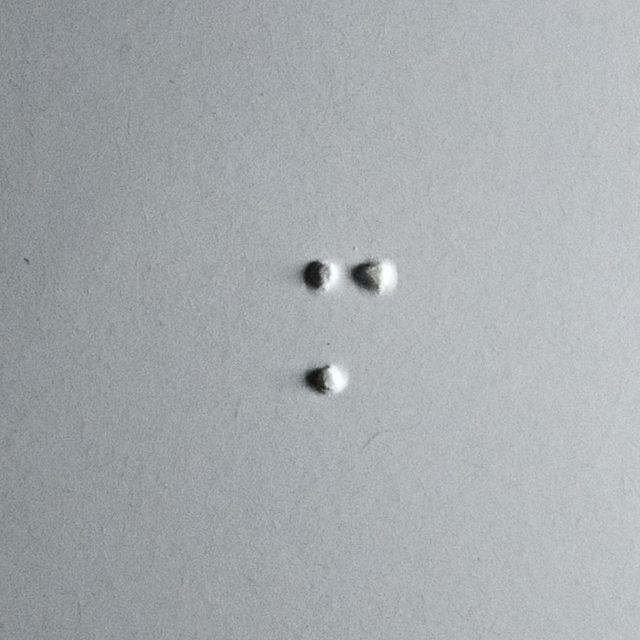mga: (300, 259, 398, 397)
